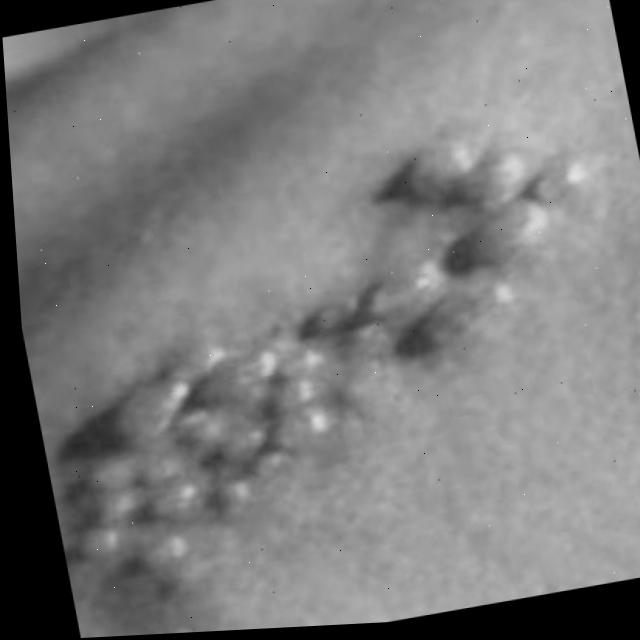Shingles: (8, 92, 640, 606)
